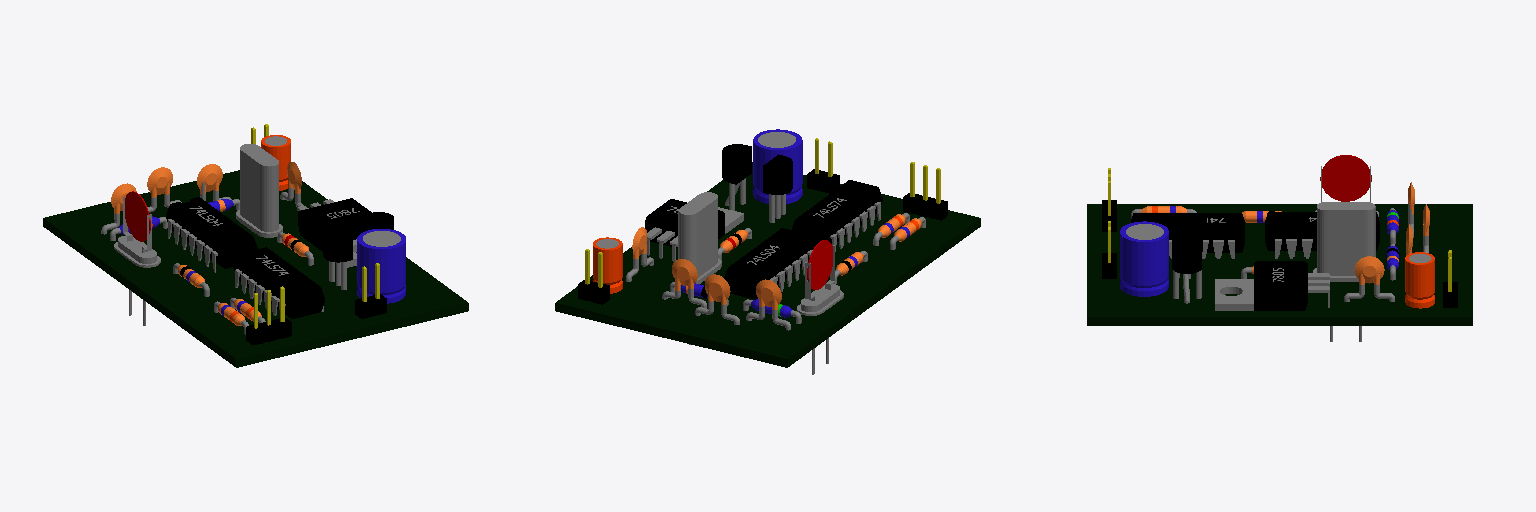
File: Board_1.obj
The picture shows the model from 3 angles: view 1: azimuth 30°, elevation 25°; view 2: azimuth 150°, elevation 25°; view 3: azimuth 270°, elevation 25°; orthographic projection.
Visible parts, largest first — view 1: components_board_2.001, board_board_2, components.001_board_2.019; view 2: components_board_2.001, board_board_2, components.001_board_2.019; view 3: components_board_2.001, board_board_2, components.001_board_2.019.
Boxes of the visible parts, box(x1,y1,x2,y2) form: components_board_2.001: box(101, 124, 405, 344); board_board_2: box(43, 170, 468, 367); components.001_board_2.019: box(233, 247, 324, 318); components_board_2.001: box(578, 129, 947, 374); board_board_2: box(555, 162, 980, 367); components.001_board_2.019: box(792, 180, 882, 251); components_board_2.001: box(1102, 155, 1457, 341); board_board_2: box(1087, 204, 1472, 325); components.001_board_2.019: box(1131, 213, 1244, 258).
Bounding box in the file's own units: 4.45 × 2.48 × 6.41.